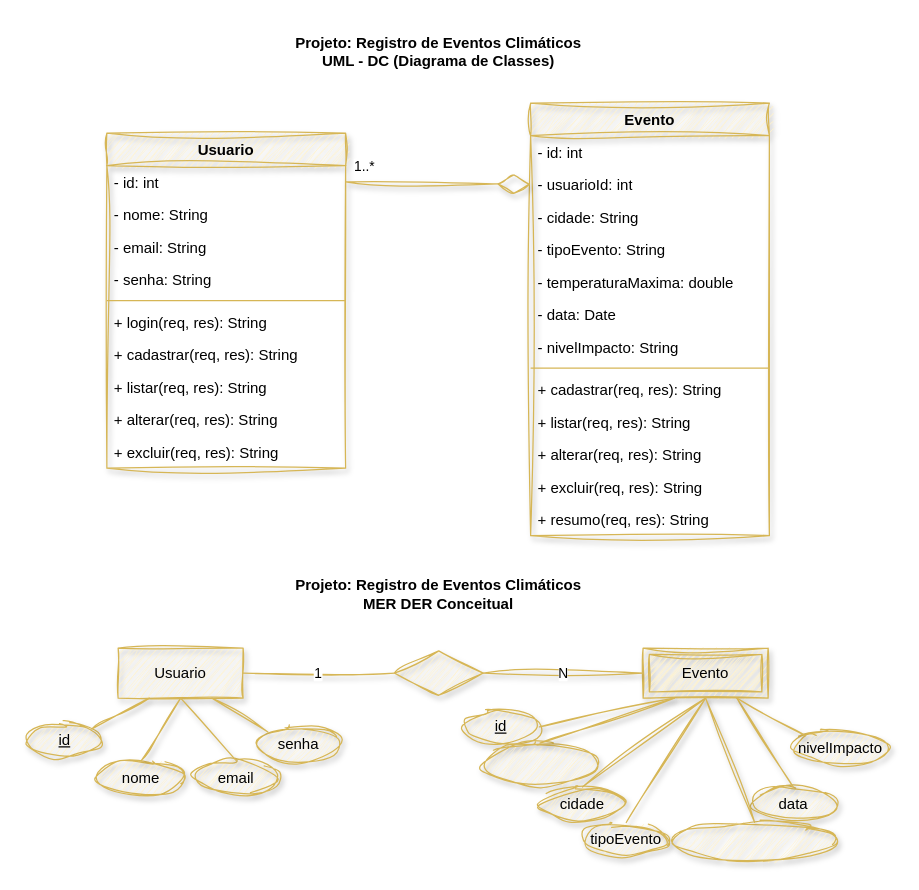
The diagram is 919 pixels wide and 890 high, and some of its shapes have lost their labels. The shapes that lost their labels are listed below. From the top down, each one's centre as x and y in pixels, then its label:
point 439,674: registra
point 540,765: usuarioId
point 755,842: temperaturaMaxima
